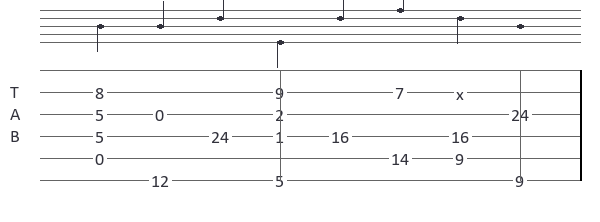0: (95, 151, 108, 166), (155, 107, 168, 122)
1: (275, 129, 288, 144)
12: (151, 173, 173, 188)
14: (391, 151, 413, 166)
16: (331, 129, 353, 144), (451, 129, 473, 144)
2: (275, 107, 288, 122)
24: (211, 129, 233, 144), (511, 107, 533, 122)
5: (95, 107, 108, 122), (95, 129, 108, 144), (275, 173, 288, 188)
7: (395, 85, 408, 100)
8: (95, 85, 108, 100)
9: (275, 85, 288, 100), (455, 151, 468, 166), (515, 173, 528, 188)
x: (456, 86, 468, 98)
